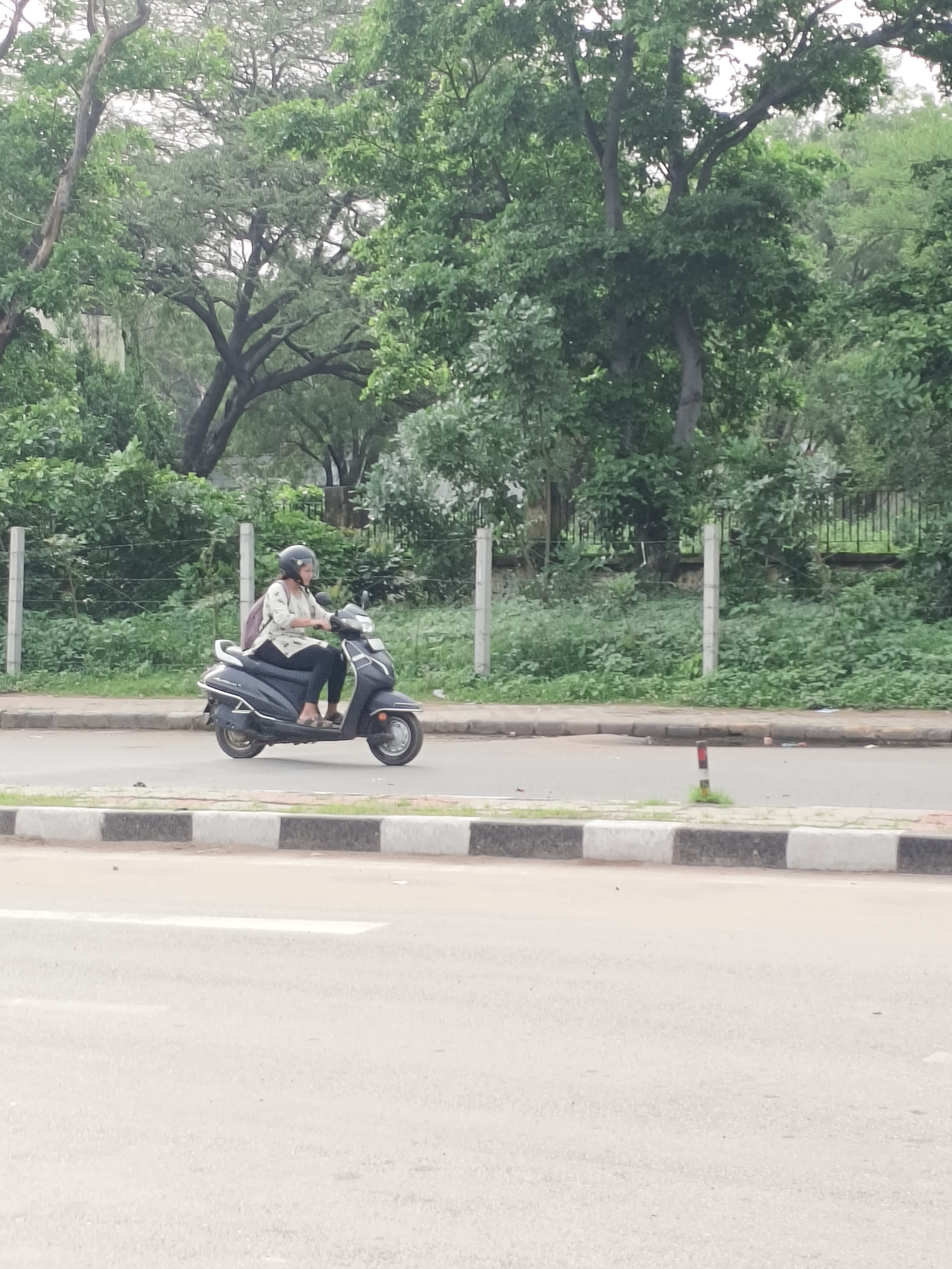BikeWithRider: (183, 532, 436, 774)
Helmet: (268, 540, 332, 591)
